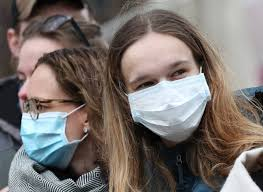surgical: (121, 71, 219, 142), (19, 112, 82, 169)
